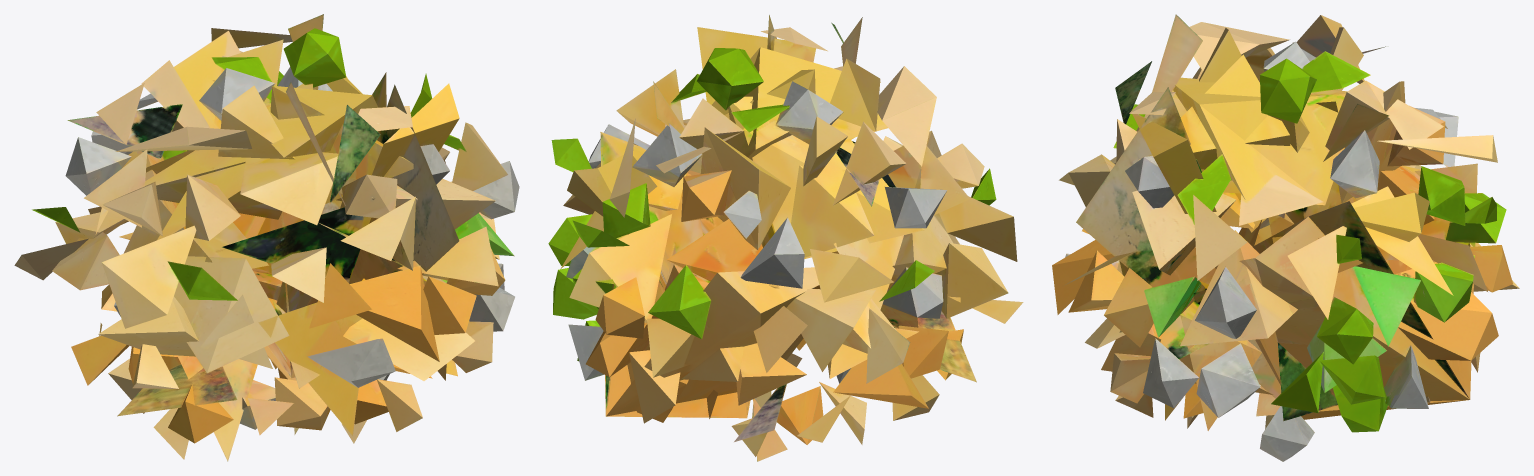
File: fruit.glb
3 views of the same model, side by side, from view 1: azimuth 30°, elevation 25°; view 2: azimuth 150°, elevation 25°; view 3: azimuth 270°, elevation 25° (orthographic). The views are drawn at different scales.
Size of the model in its own units: 0.2236 by 0.2 by 0.2135.
Materials: 1 (1 with a texture image).
